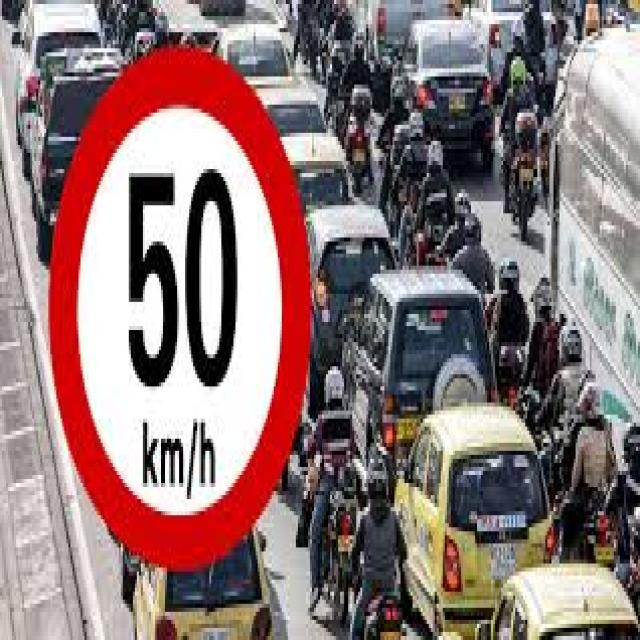Speed limit 50: (45, 41, 313, 573)
